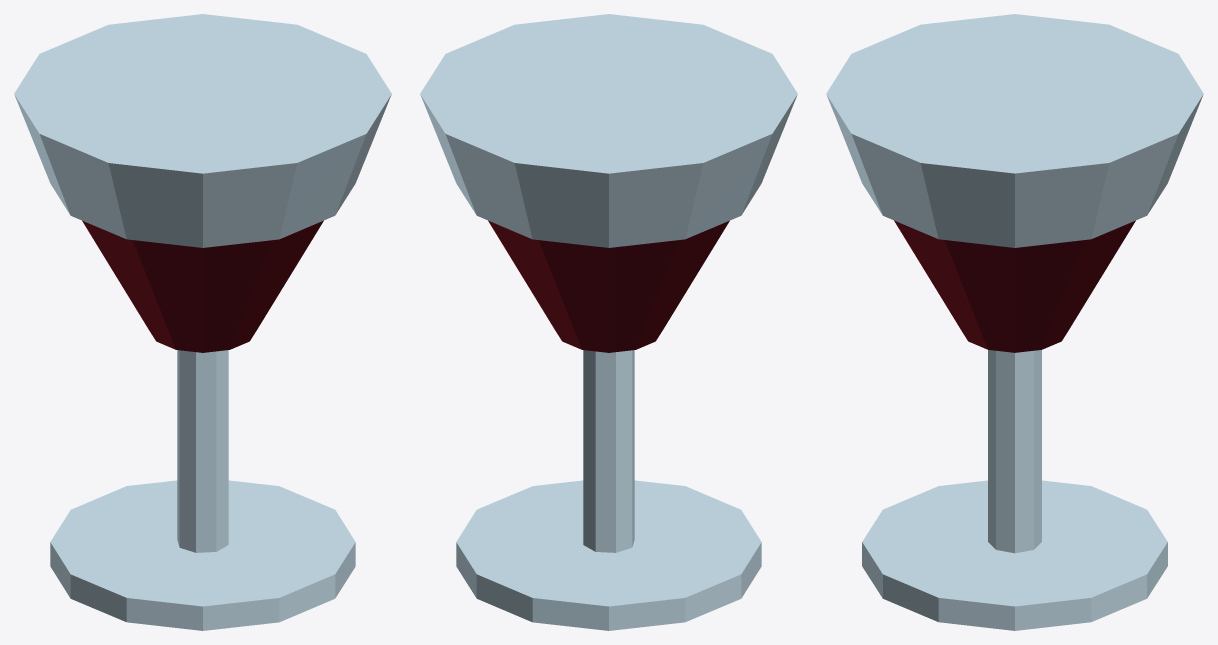
The model's file is copo_cristal.obj.
The picture shows the model from 3 angles, left to right: view 1: azimuth 30°, elevation 25°; view 2: azimuth 150°, elevation 25°; view 3: azimuth 270°, elevation 25°; orthographic projection.
Visible parts, largest first — view 1: parte_03_cristal, parte_00_cristal, parte_02_vinho, parte_01_cristal; view 2: parte_03_cristal, parte_00_cristal, parte_02_vinho, parte_01_cristal; view 3: parte_03_cristal, parte_00_cristal, parte_02_vinho, parte_01_cristal.
Boxes of the visible parts, bbox=[...] form: parte_03_cristal: bbox=[14, 14, 391, 247]; parte_00_cristal: bbox=[50, 480, 355, 630]; parte_02_vinho: bbox=[82, 220, 323, 352]; parte_01_cristal: bbox=[177, 350, 228, 552]; parte_03_cristal: bbox=[420, 14, 797, 247]; parte_00_cristal: bbox=[456, 480, 761, 630]; parte_02_vinho: bbox=[488, 220, 729, 352]; parte_01_cristal: bbox=[583, 350, 634, 552]; parte_03_cristal: bbox=[826, 14, 1203, 247]; parte_00_cristal: bbox=[862, 480, 1167, 630]; parte_02_vinho: bbox=[894, 220, 1135, 352]; parte_01_cristal: bbox=[988, 350, 1041, 553].
Size of the model in its own units: 0.084 by 0.116 by 0.084.
